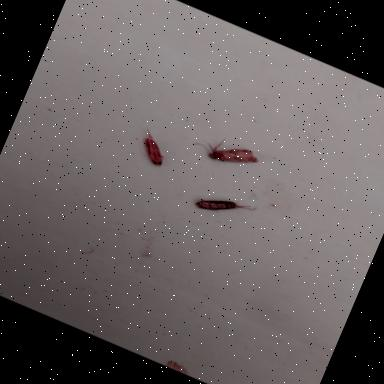pbw: (190, 127, 260, 176), (194, 186, 250, 226), (134, 126, 172, 166)
